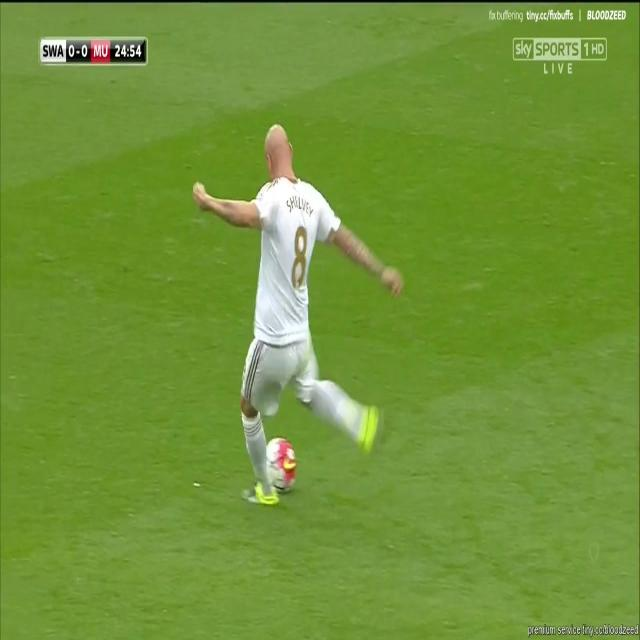Ball: (265, 434, 298, 498)
Player: (186, 118, 404, 507)
